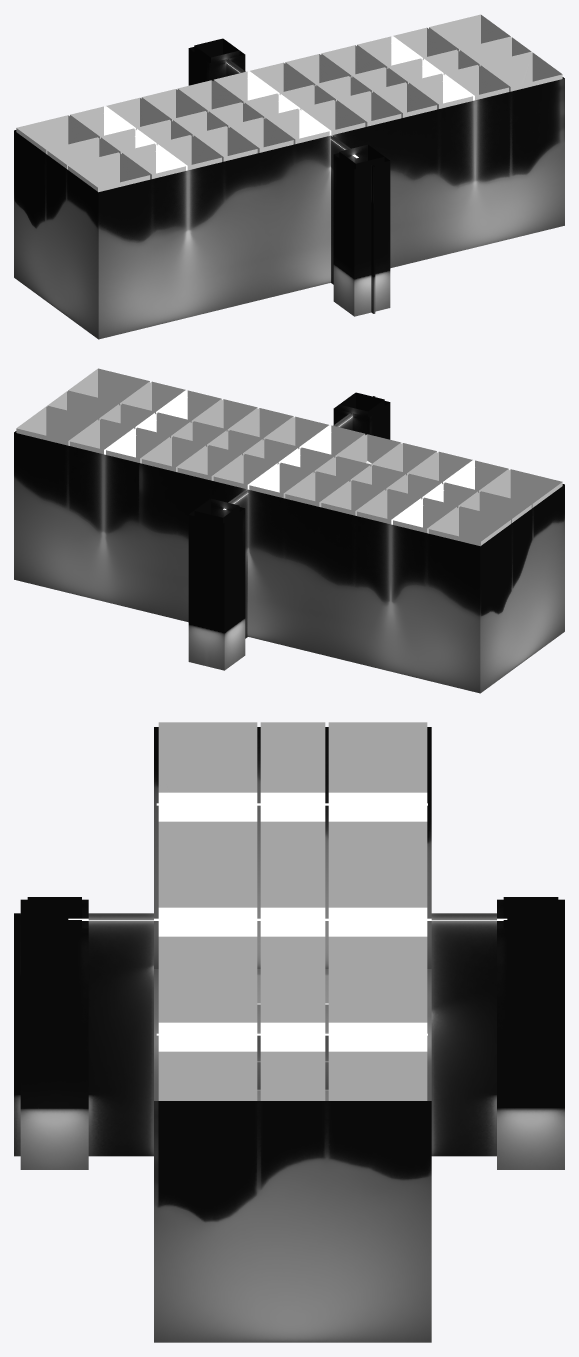
File: gallery.glb
The picture shows the model from 3 angles, top to bottom: view 1: azimuth 30°, elevation 25°; view 2: azimuth 150°, elevation 25°; view 3: azimuth 270°, elevation 25°; orthographic projection. The views are drawn at different scales.
Parts seen in each view (by area): view 1: gallery_walls, gallery_ceiling, gallery_emit; view 2: gallery_walls, gallery_ceiling, gallery_emit; view 3: gallery_walls, gallery_ceiling, gallery_emit.
Boxes of the visible parts, box(x1,y1,x2,y2) form: gallery_walls: box(14, 38, 564, 339); gallery_ceiling: box(16, 14, 562, 192); gallery_emit: box(104, 36, 474, 173); gallery_walls: box(14, 392, 564, 693); gallery_ceiling: box(16, 368, 562, 546); gallery_emit: box(104, 390, 474, 527); gallery_walls: box(14, 727, 564, 1342); gallery_ceiling: box(158, 722, 427, 1100); gallery_emit: box(68, 792, 507, 1051).
Bounding box in the file's own units: 390 × 120 × 243.
Materials: 4 (2 with a texture image).
